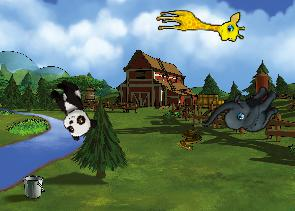elephant: (200, 67, 286, 156)
giraffe: (155, 10, 245, 42)
panda: (43, 75, 100, 142)
